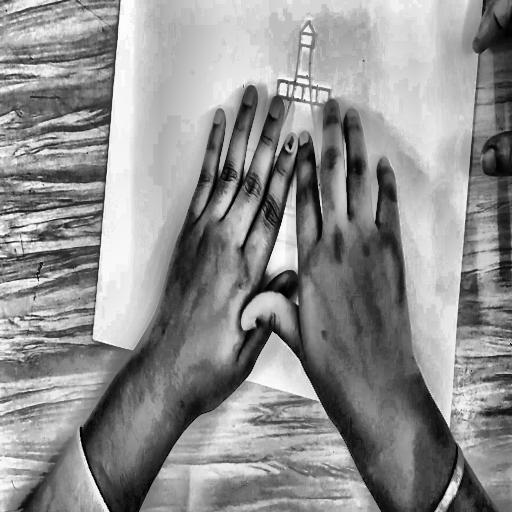bottom_left: (90, 334, 95, 342)
bottom_right: (445, 428, 451, 439)
eiffel-tower: (171, 0, 422, 326)
